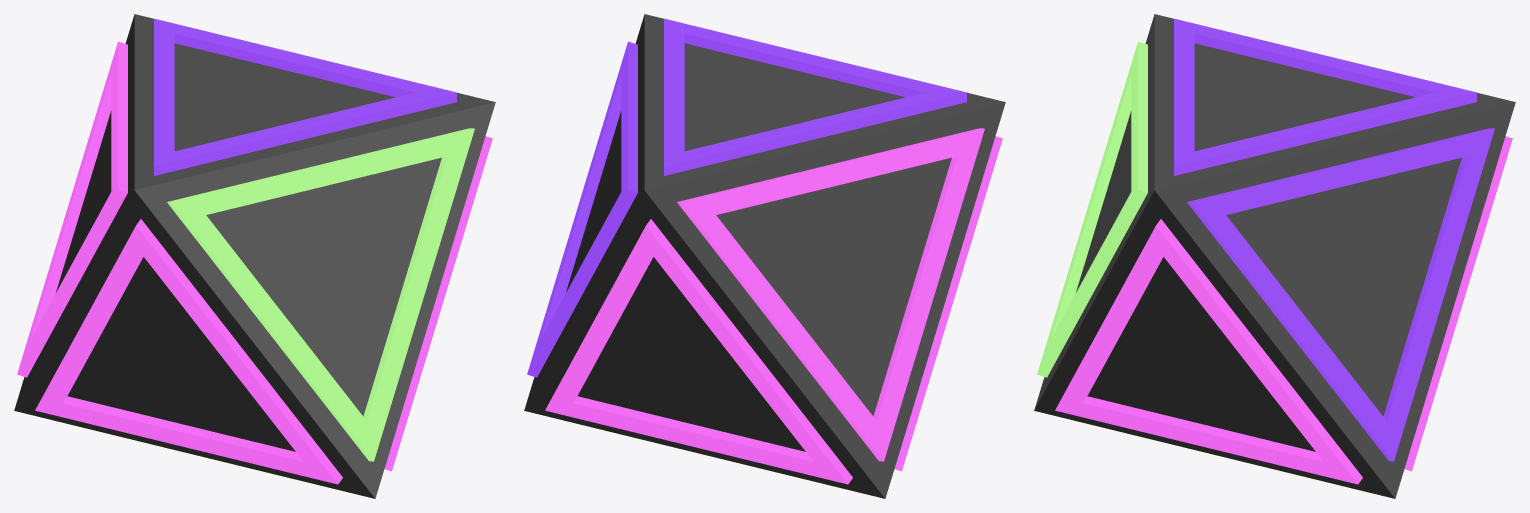
The model's file is octahedron.gltf.
3 views of the same model, side by side, from view 1: azimuth 30°, elevation 25°; view 2: azimuth 150°, elevation 25°; view 3: azimuth 270°, elevation 25° (orthographic).
Parts seen in each view (by area): view 1: OctahedronHybrid; view 2: OctahedronHybrid; view 3: OctahedronHybrid.
Part boxes in pixels (bbox=[...]): OctahedronHybrid: bbox=[14, 14, 495, 498]; OctahedronHybrid: bbox=[524, 14, 1005, 498]; OctahedronHybrid: bbox=[1034, 14, 1515, 498].
Bounding box in the file's own units: 1 × 0.8674 × 1.15.
